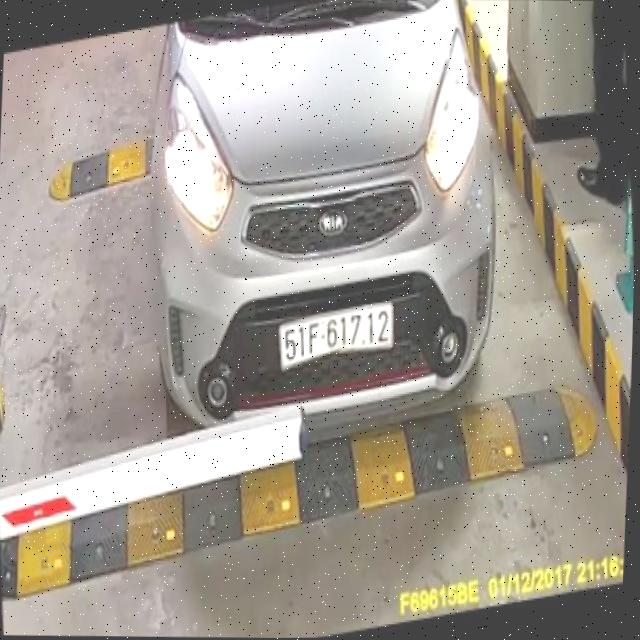car: (129, 0, 516, 451)
plate: (274, 297, 398, 375)
